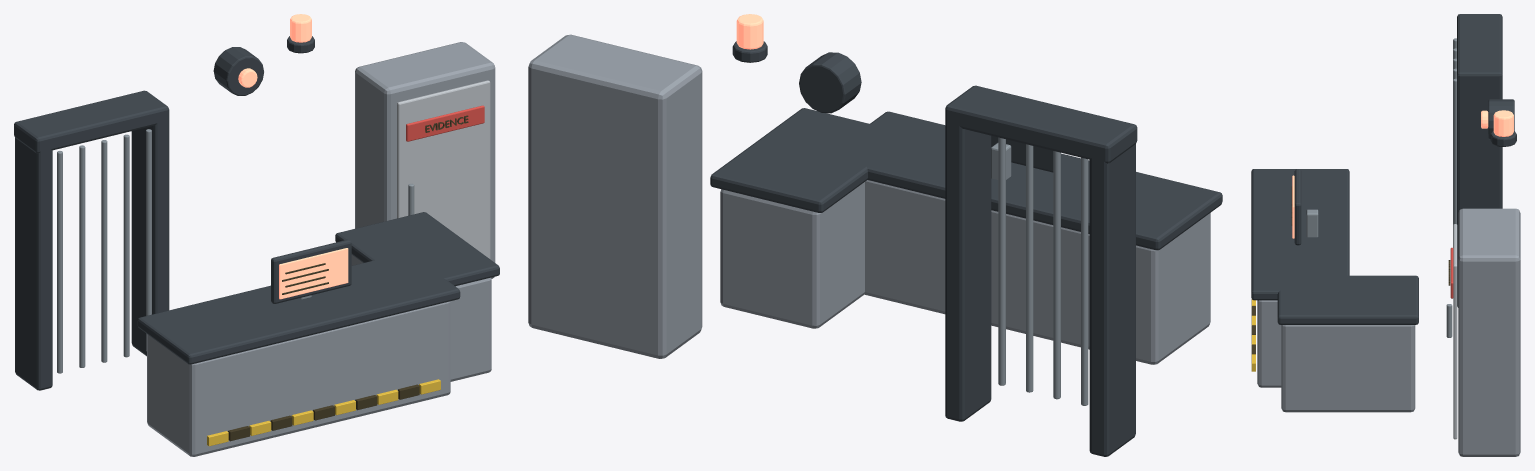
File: department_security_dressing.glb
3 views of the same model, side by side, from view 1: azimuth 30°, elevation 25°; view 2: azimuth 150°, elevation 25°; view 3: azimuth 270°, elevation 25° (orthographic). The views are drawn at different scales.
Visible parts, largest first — view 1: DEPT_Security__Checkpoint_Desk_Main, DEPT_Security__Checkpoint_Desk_Top, DEPT_Security__Evidence_Locker, DEPT_Security__Evidence_Door, DEPT_Security__Brig_Frame_Left, DEPT_Security__Brig_Frame_Right, DEPT_Security__Checkpoint_Desk_Return_Top, DEPT_Security__Brig_Frame_Top, DEPT_Security__Checkpoint_Desk_Return, DEPT_Security__Desk_Screen_Glow, DEPT_Security__Camera_Dome, DEPT_Security__Brig_Bar_4 (+7 smaller); view 2: DEPT_Security__Evidence_Locker, DEPT_Security__Checkpoint_Desk_Main, DEPT_Security__Checkpoint_Desk_Return, DEPT_Security__Brig_Frame_Left, DEPT_Security__Checkpoint_Desk_Top, DEPT_Security__Brig_Frame_Right, DEPT_Security__Checkpoint_Desk_Return_Top, DEPT_Security__Brig_Frame_Top, DEPT_Security__Camera_Dome, DEPT_Security__Brig_Bar_4, DEPT_Security__Brig_Bar_5, DEPT_Security__Brig_Bar_2 (+3 smaller); view 3: DEPT_Security__Evidence_Locker, DEPT_Security__Checkpoint_Desk_Return, DEPT_Security__Checkpoint_Desk_Top, DEPT_Security__Checkpoint_Desk_Return_Top, DEPT_Security__Brig_Frame_Right, DEPT_Security__Brig_Frame_Top, DEPT_Security__Checkpoint_Desk_Main, DEPT_Security__Evidence_Door, DEPT_Security__Brig_Bar_5, DEPT_Security__Desk_Screen_Bezel, DEPT_Security__Alert_Beacon, DEPT_Security__Camera_Dome (+2 smaller).
Part boxes in pixels (x1=…): DEPT_Security__Checkpoint_Desk_Main: x1=147, y1=301, x2=450, y2=456; DEPT_Security__Checkpoint_Desk_Top: x1=137, y1=252, x2=460, y2=364; DEPT_Security__Evidence_Locker: x1=355, y1=42, x2=495, y2=278; DEPT_Security__Evidence_Door: x1=397, y1=80, x2=490, y2=258; DEPT_Security__Brig_Frame_Left: x1=15, y1=136, x2=52, y2=390; DEPT_Security__Brig_Frame_Right: x1=131, y1=107, x2=169, y2=356; DEPT_Security__Checkpoint_Desk_Return_Top: x1=335, y1=212, x2=499, y2=286; DEPT_Security__Brig_Frame_Top: x1=14, y1=90, x2=169, y2=153; DEPT_Security__Checkpoint_Desk_Return: x1=351, y1=255, x2=491, y2=381; DEPT_Security__Desk_Screen_Glow: x1=279, y1=248, x2=348, y2=299; DEPT_Security__Camera_Dome: x1=213, y1=47, x2=263, y2=95; DEPT_Security__Brig_Bar_4: x1=123, y1=134, x2=129, y2=357; DEPT_Security__Evidence_Locker: x1=528, y1=34, x2=702, y2=358; DEPT_Security__Checkpoint_Desk_Main: x1=864, y1=180, x2=1210, y2=364; DEPT_Security__Checkpoint_Desk_Return: x1=720, y1=182, x2=864, y2=328; DEPT_Security__Brig_Frame_Left: x1=1089, y1=121, x2=1135, y2=456; DEPT_Security__Checkpoint_Desk_Top: x1=827, y1=111, x2=1222, y2=250; DEPT_Security__Brig_Frame_Right: x1=945, y1=87, x2=991, y2=421; DEPT_Security__Checkpoint_Desk_Return_Top: x1=710, y1=108, x2=910, y2=212; DEPT_Security__Brig_Frame_Top: x1=945, y1=85, x2=1137, y2=163; DEPT_Security__Camera_Dome: x1=799, y1=52, x2=861, y2=113; DEPT_Security__Brig_Bar_4: x1=1026, y1=144, x2=1033, y2=392; DEPT_Security__Brig_Bar_5: x1=998, y1=137, x2=1005, y2=385; DEPT_Security__Brig_Bar_2: x1=1081, y1=157, x2=1088, y2=405; DEPT_Security__Evidence_Locker: x1=1458, y1=208, x2=1520, y2=456; DEPT_Security__Checkpoint_Desk_Return: x1=1281, y1=325, x2=1415, y2=412; DEPT_Security__Checkpoint_Desk_Top: x1=1251, y1=169, x2=1349, y2=300; DEPT_Security__Checkpoint_Desk_Return_Top: x1=1277, y1=275, x2=1418, y2=324; DEPT_Security__Brig_Frame_Right: x1=1457, y1=68, x2=1502, y2=307; DEPT_Security__Brig_Frame_Top: x1=1457, y1=14, x2=1502, y2=85; DEPT_Security__Checkpoint_Desk_Main: x1=1257, y1=300, x2=1281, y2=387; DEPT_Security__Evidence_Door: x1=1453, y1=224, x2=1457, y2=439; DEPT_Security__Brig_Bar_5: x1=1453, y1=78, x2=1456, y2=247; DEPT_Security__Desk_Screen_Bezel: x1=1294, y1=169, x2=1301, y2=245; DEPT_Security__Alert_Beacon: x1=1493, y1=110, x2=1513, y2=136; DEPT_Security__Camera_Dome: x1=1488, y1=99, x2=1514, y2=139.
Size of the model in its own units: 4.15 by 2.49 by 2.25.
